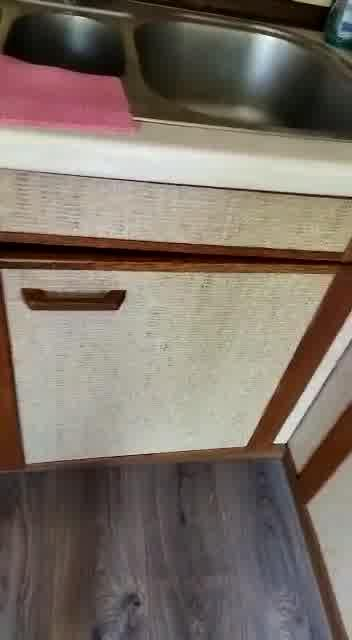cabinet_door: (2, 267, 310, 460)
handle: (23, 276, 127, 313)
